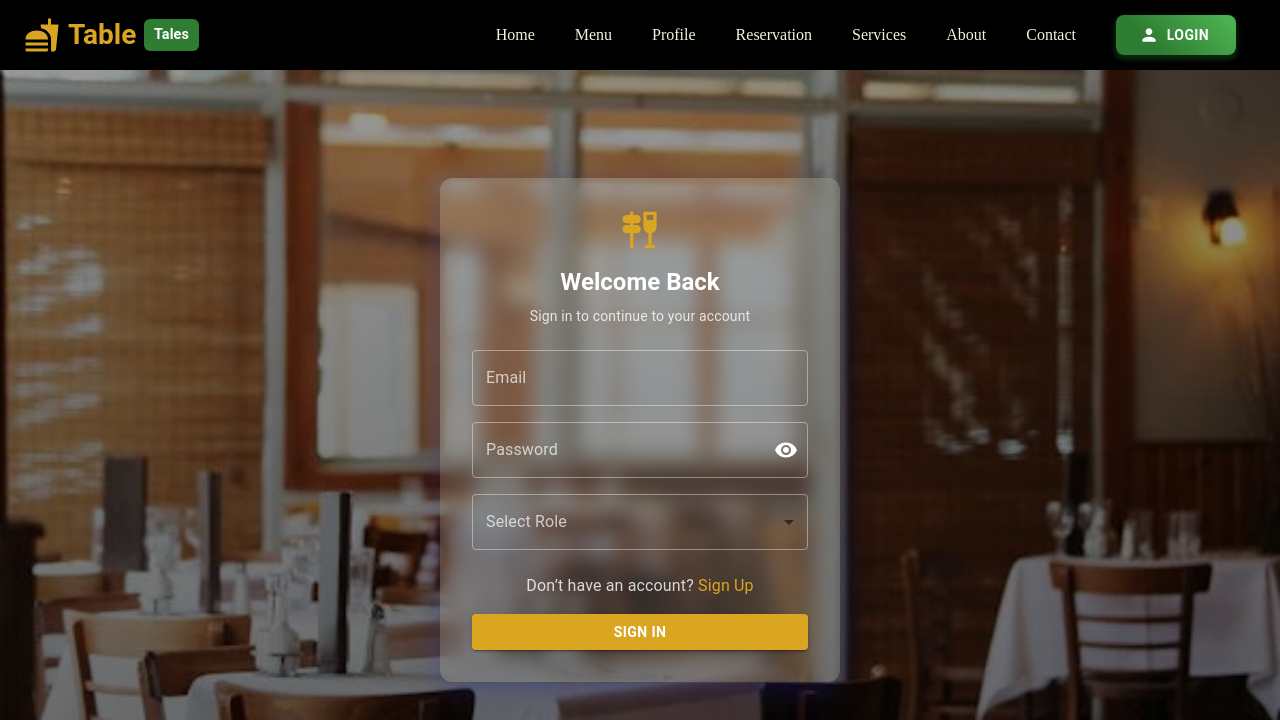
Test case: Signin Page Tests › should show error for short password
Type "test@example.com" into the field with test id "email-input". click: (640, 378)
box: [472,350,808,406]
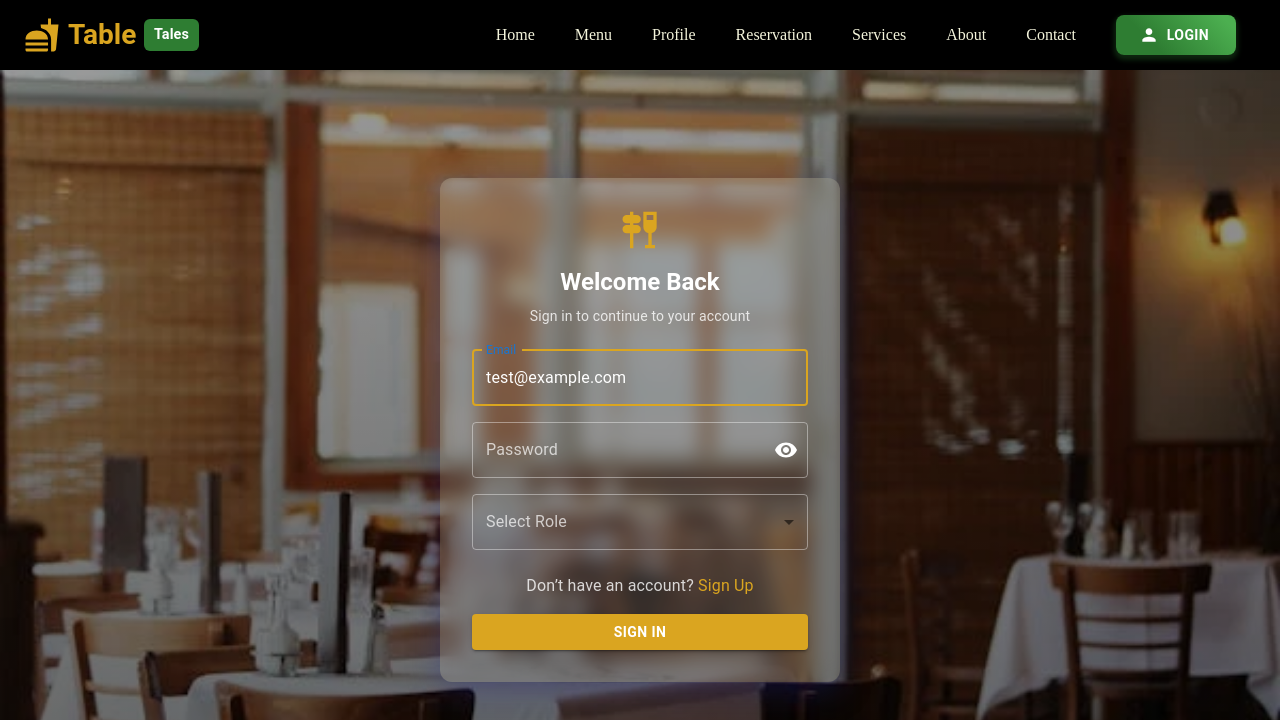
Type "short" into the element with test id "password-input". click: (640, 450)
box: [472,422,808,478]
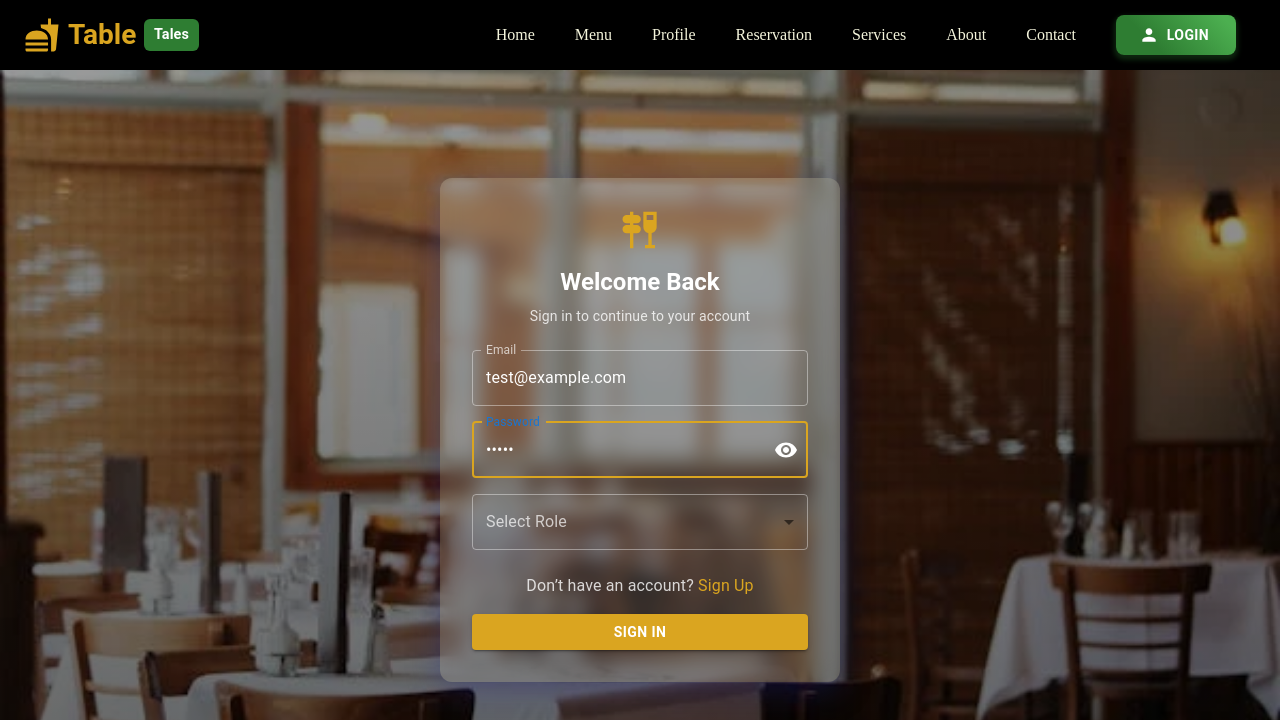
Click the element with test id "role-select". click: (640, 522)
box: [472,494,808,550]
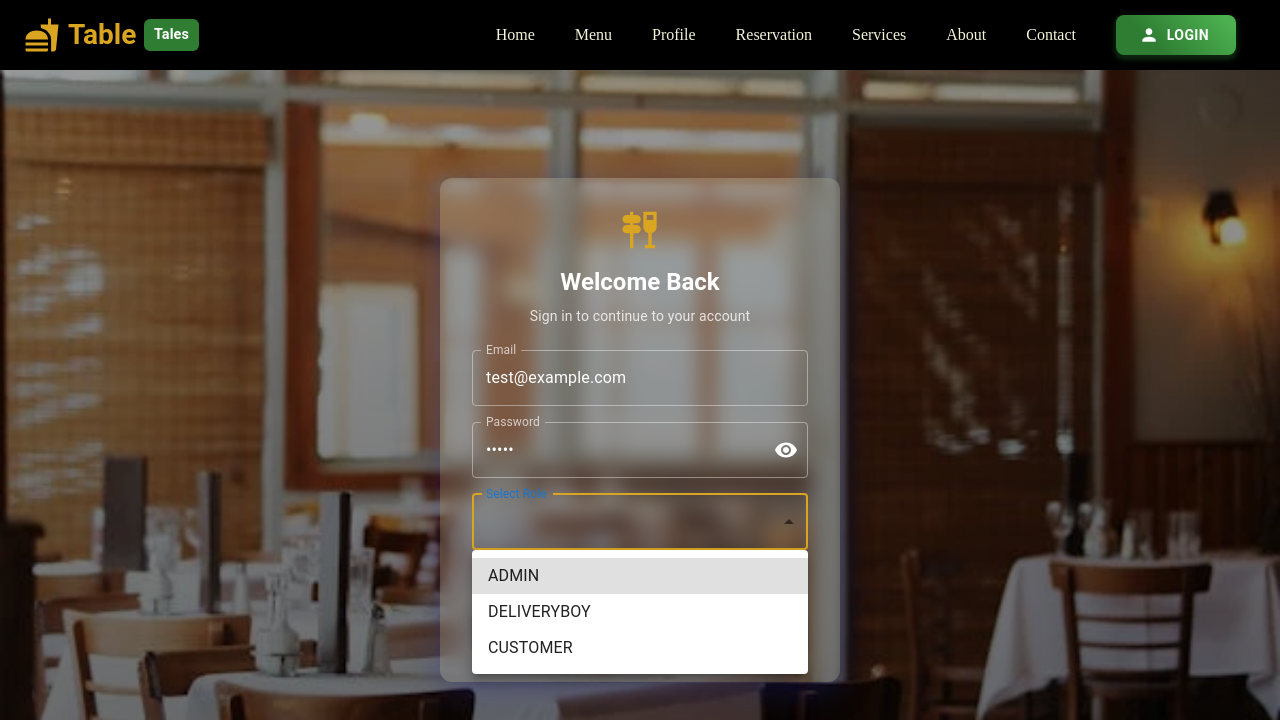
Click the option "CUSTOMER". click: (531, 648)
box: [488,638,573,657]
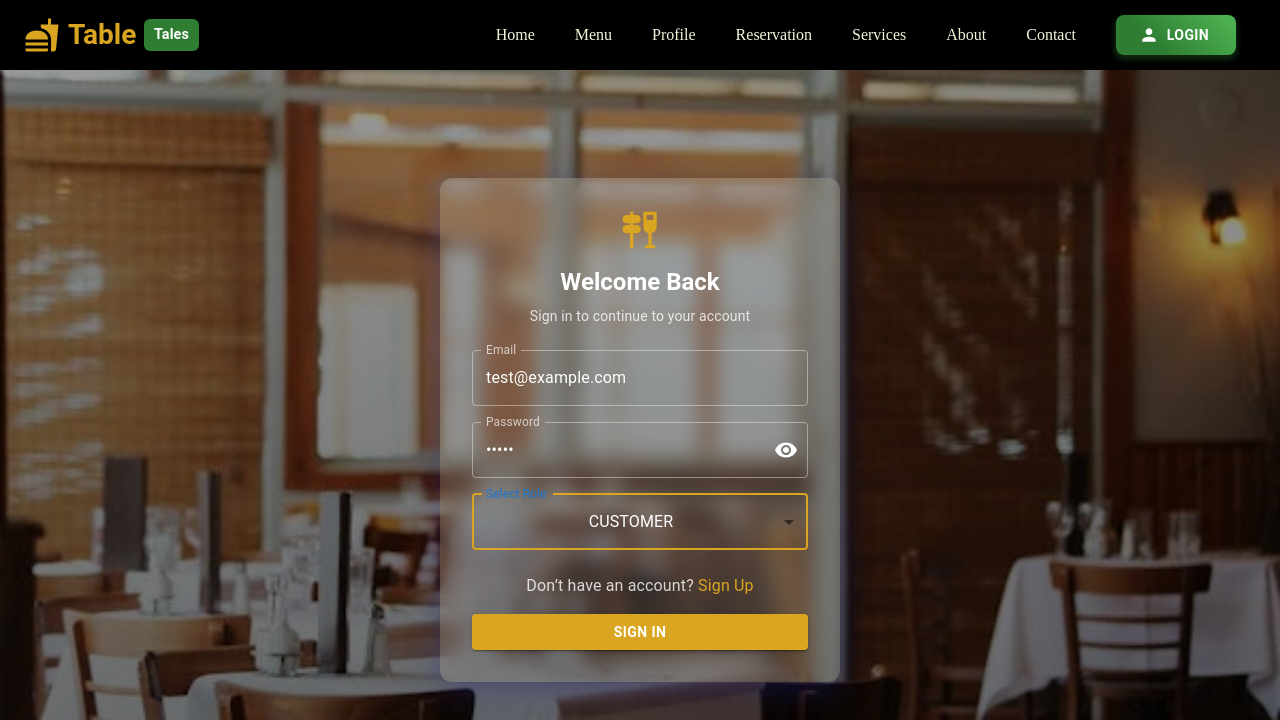
Scroll
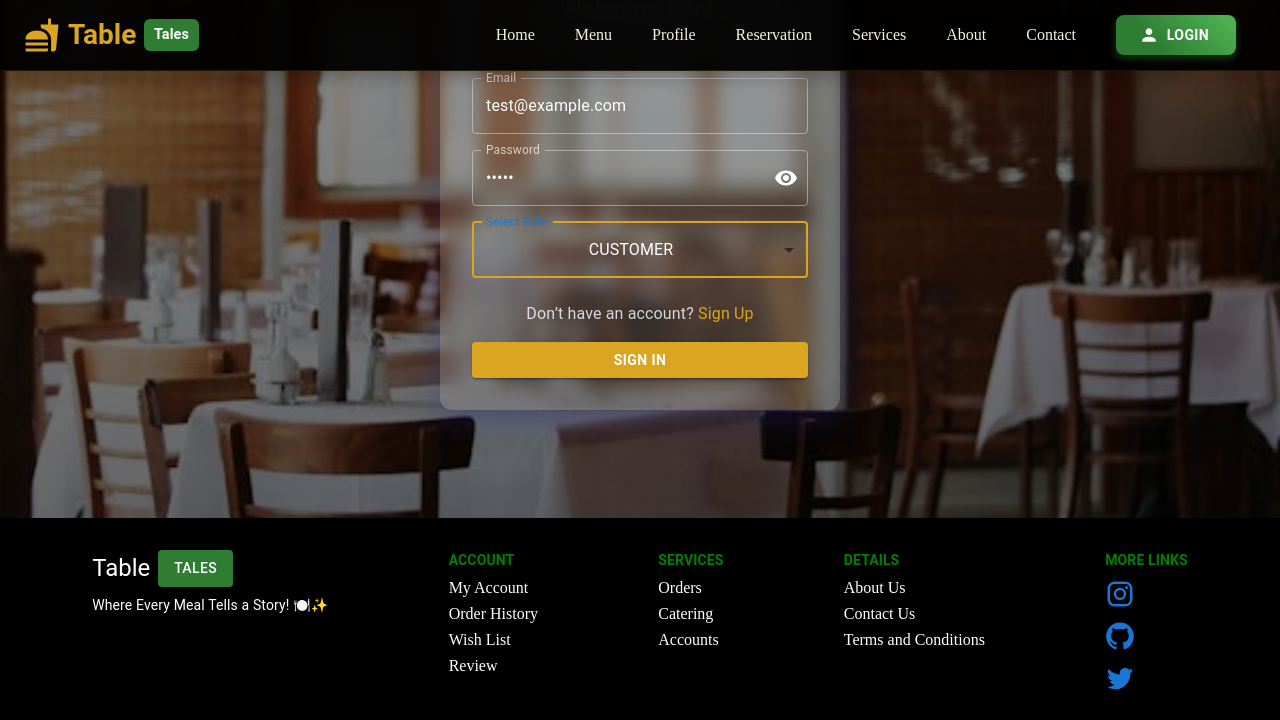
Click the button with test id "signin-button". click: (640, 361)
box: [472,342,808,379]
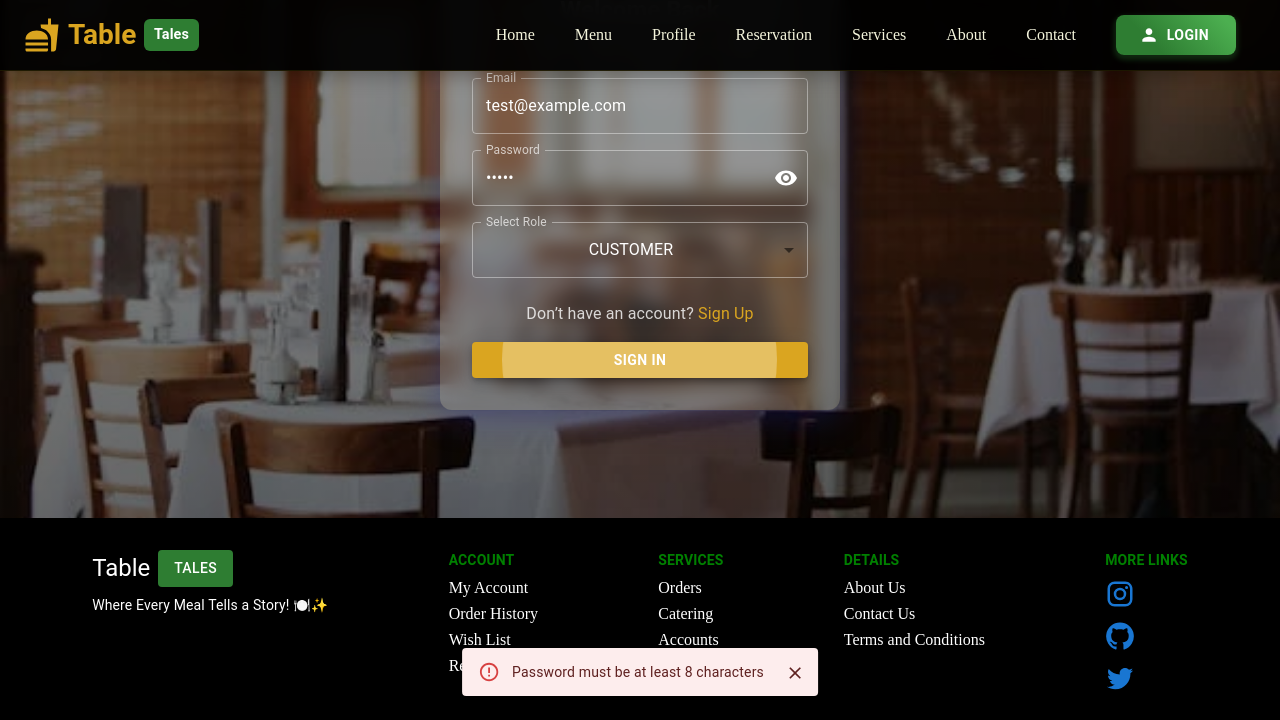
Expected: the text "Password must be at least 8 characters" is shown, [512,664,764,680]
